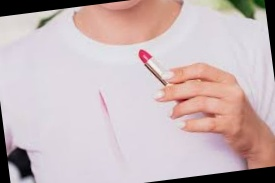lipstick: (101, 117, 125, 163), (96, 89, 111, 123)
